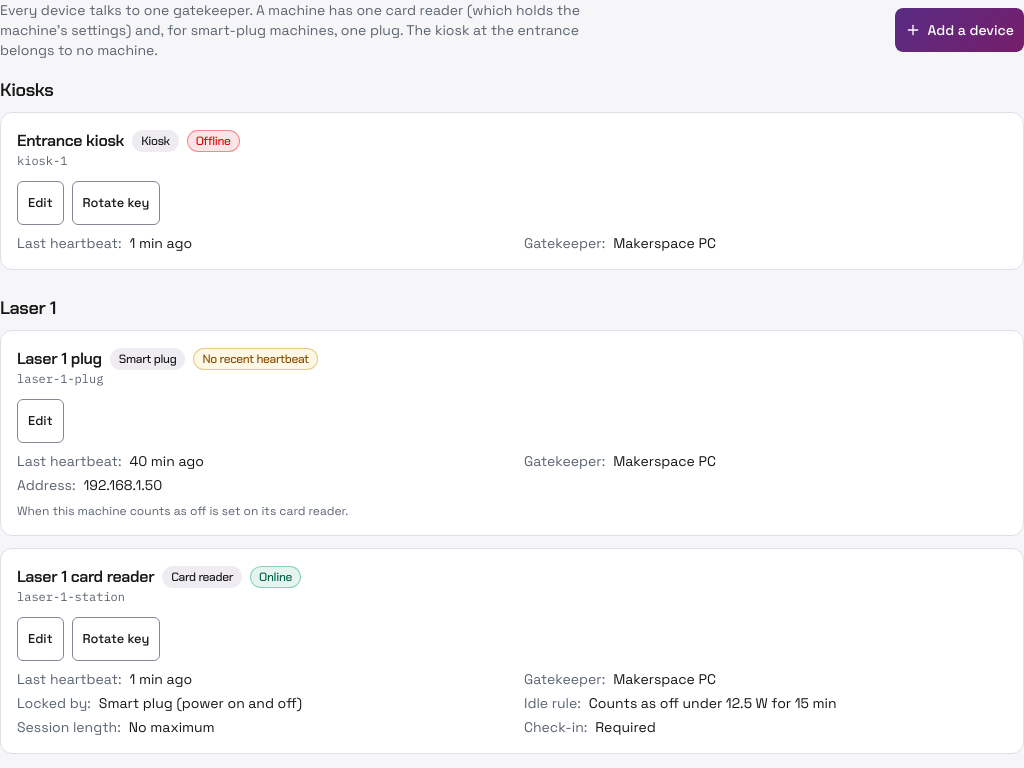
Scenario: Devices editing and rotating keys › has no rotate button for a plug, and asks before rotating a key
Expected: the heading "Entrance kiosk Kiosk Offline" is shown, [17,130,240,152]
Click the button with aria-label "rotate key for laser 1 card reader": (116, 639) [72,617,160,661]
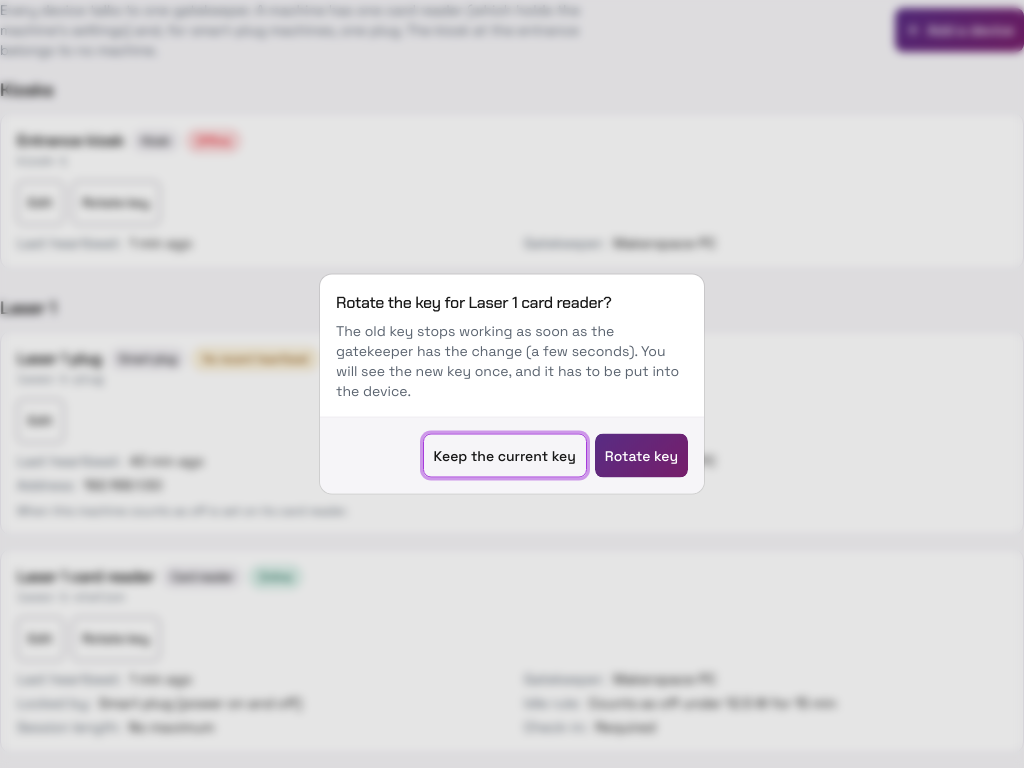
Click the button "Rotate key": (641, 456) [595,434,688,478]
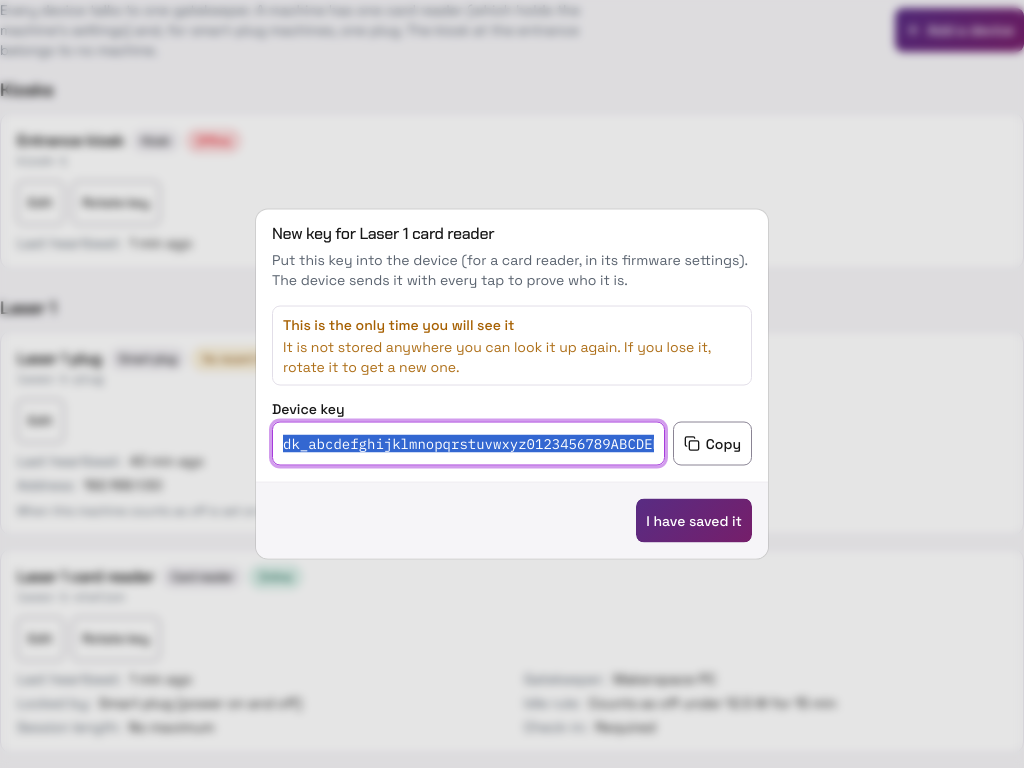
Now the field labelled "Device key" holds "dk_abcdefghijklmnopqrstuvwxyz0123456789ABCDEFG", box [272,422,665,466]
